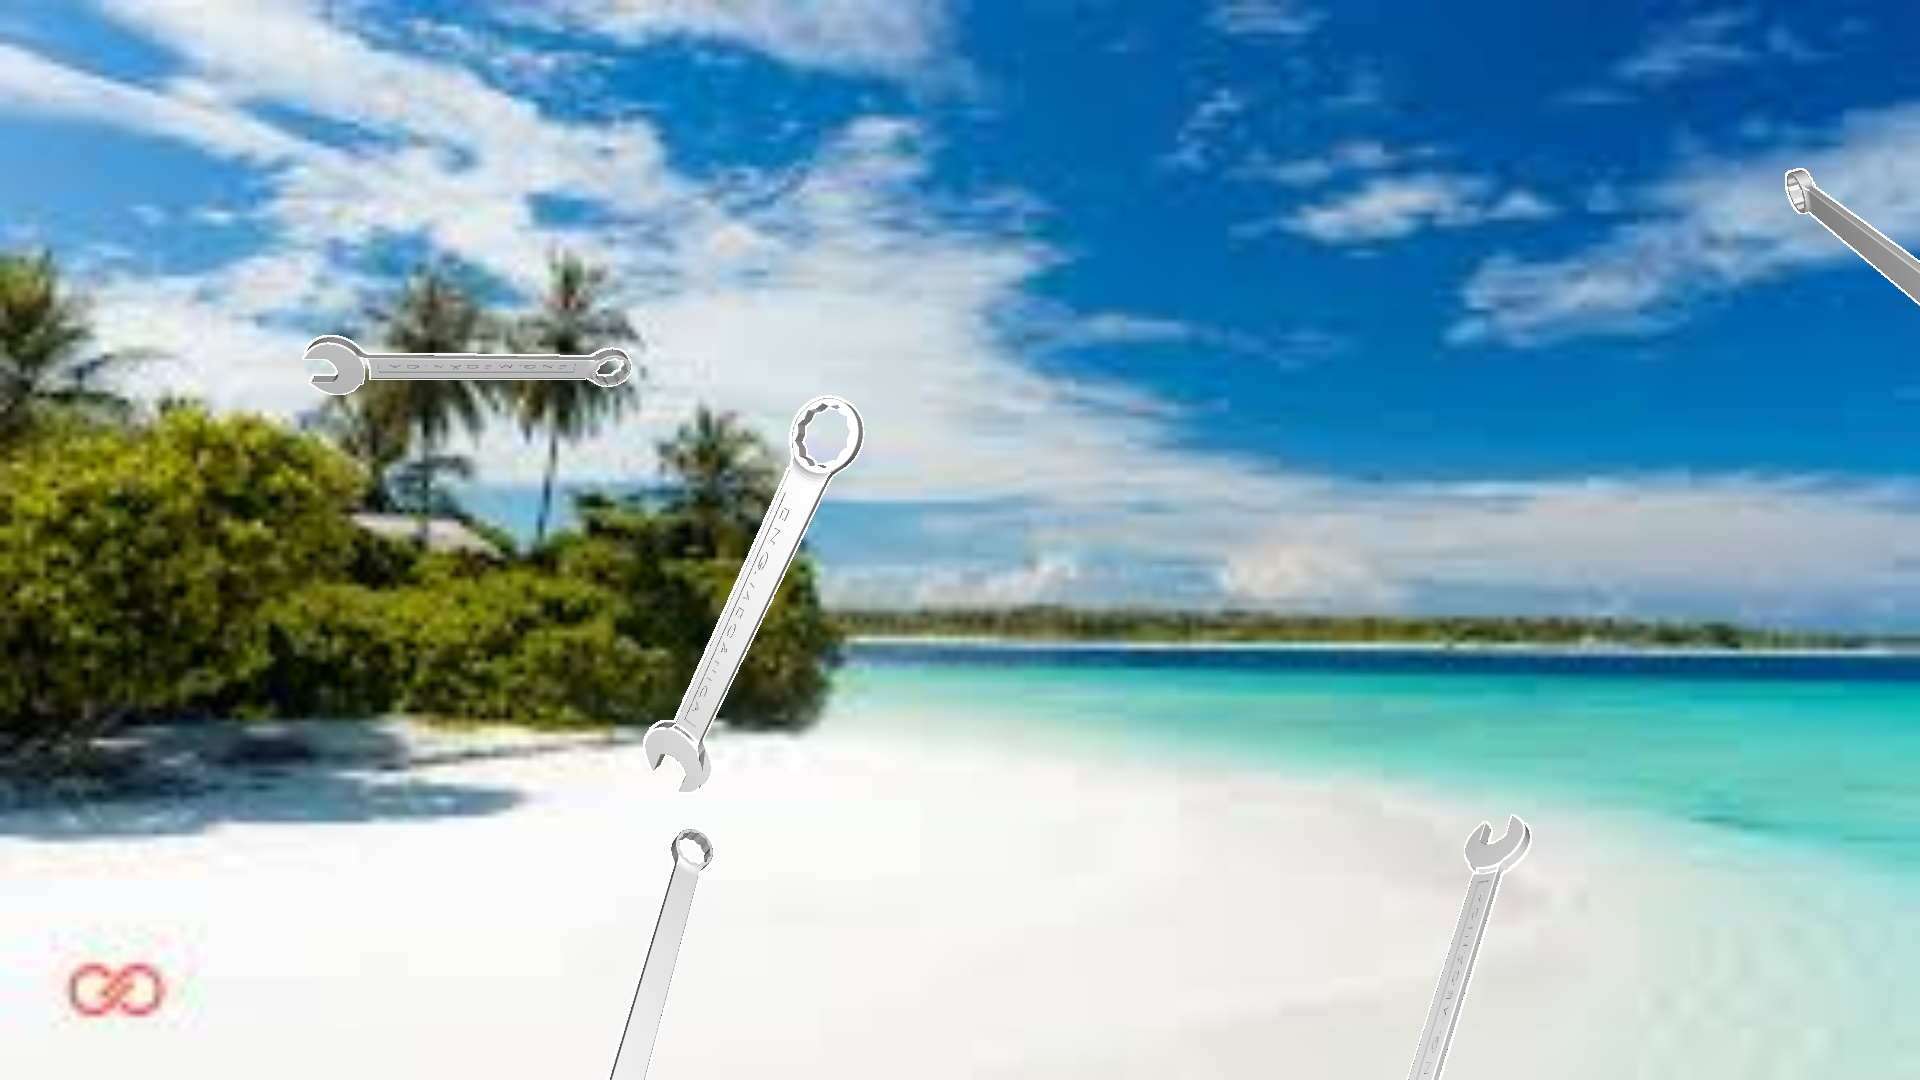Mixed Key: (644, 396, 864, 793), (1406, 814, 1531, 1079), (607, 827, 713, 1079), (302, 335, 632, 394), (1785, 167, 1919, 305)
